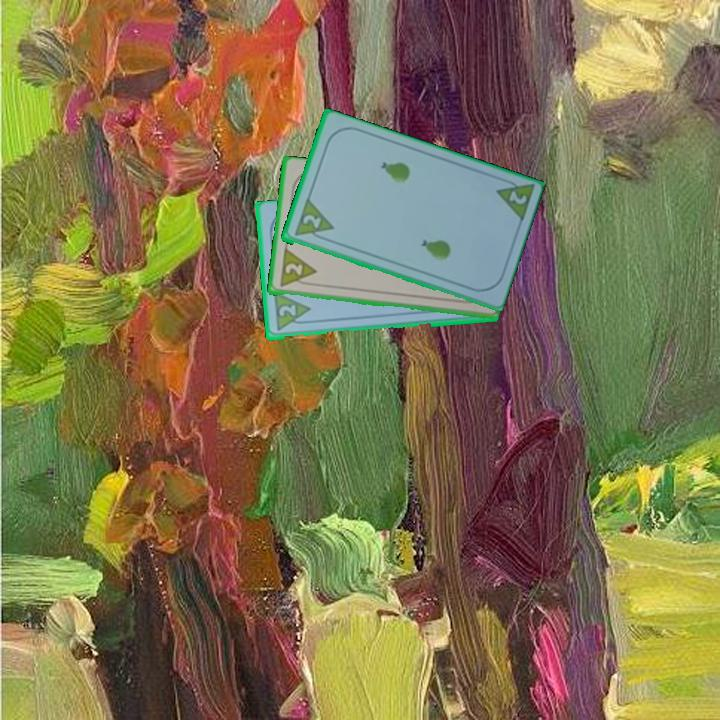2p: (492, 174, 536, 226), (290, 197, 336, 245), (276, 247, 319, 290), (275, 301, 298, 321)
